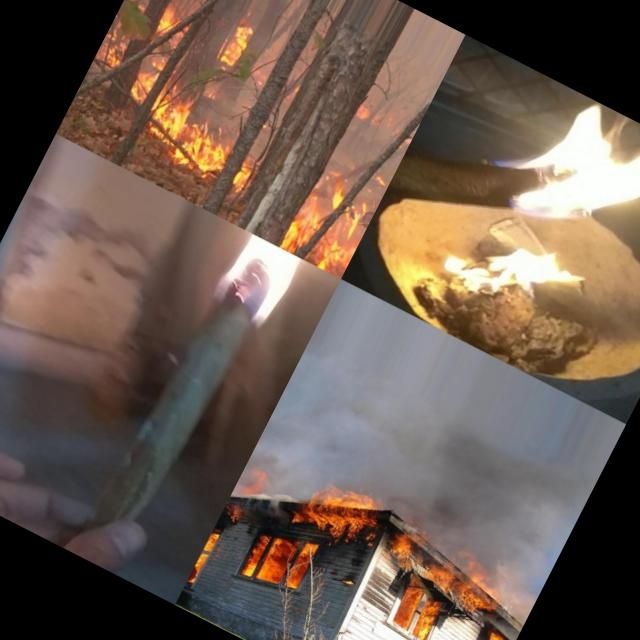fire: (476, 74, 640, 273), (430, 209, 593, 347), (180, 218, 326, 350), (374, 514, 511, 624), (276, 160, 384, 279), (136, 80, 248, 182), (279, 463, 390, 558), (238, 518, 324, 606), (209, 14, 263, 78), (384, 585, 446, 640), (185, 530, 222, 590), (235, 462, 276, 508), (218, 500, 252, 531)
smoke: (259, 354, 588, 585), (490, 570, 543, 626)
